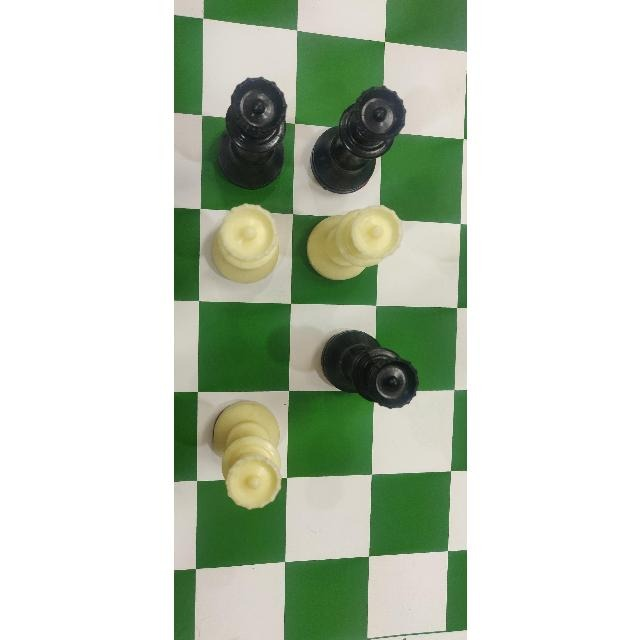black-queen: (308, 83, 406, 195), (318, 325, 422, 411), (211, 73, 286, 192)
white-queen: (207, 400, 287, 514), (301, 202, 404, 282), (208, 200, 280, 285)
